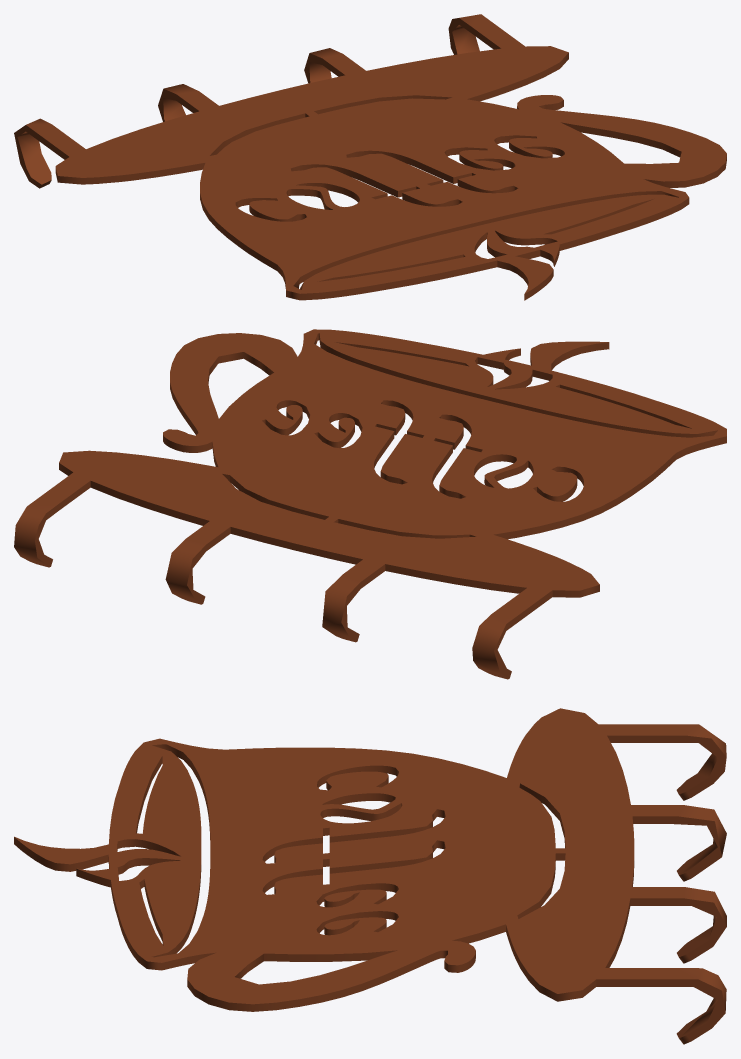
The model's file is Finalized_KeyRACK_for_wall_KJ.FBX.
3 views of the same model, one above another, from view 1: azimuth 30°, elevation 25°; view 2: azimuth 150°, elevation 25°; view 3: azimuth 270°, elevation 25° (orthographic). The views are drawn at different scales.
Visible parts, largest first — view 1: Object_1; view 2: Object_1; view 3: Object_1.
Boxes of the visible parts, x1,y1,x2,y2 form: Object_1: (14, 14, 726, 300); Object_1: (14, 329, 726, 679); Object_1: (14, 708, 726, 1044).
Bounding box in the file's own units: 2.63 × 0.2837 × 2.67.
